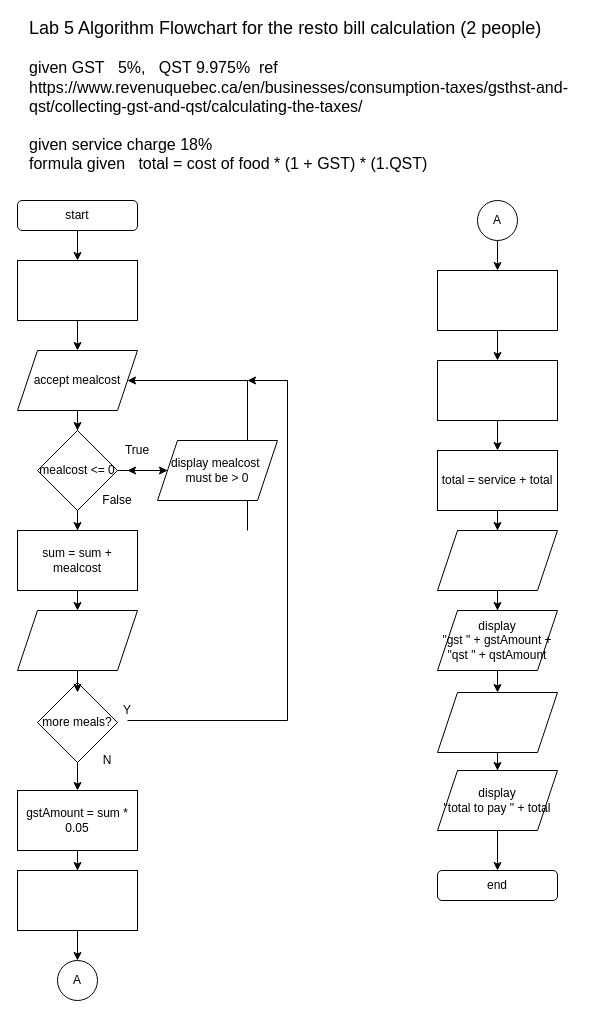
Some shapes in this 595 by 1018 pixel diagram are drawn without their labels. The centre of each missing label's shape, as x and y in pixels:
display "meal " + su m: point 497,560
display "service " + service: point 497,722
display more meals? (y or n): point 77,640
qstAmount = sum * 0.09975: point 77,900
service = total * 0.18: point 497,390
sum = 0: point 77,290
total = sum + gstAmount + qstAmount: point 497,300
